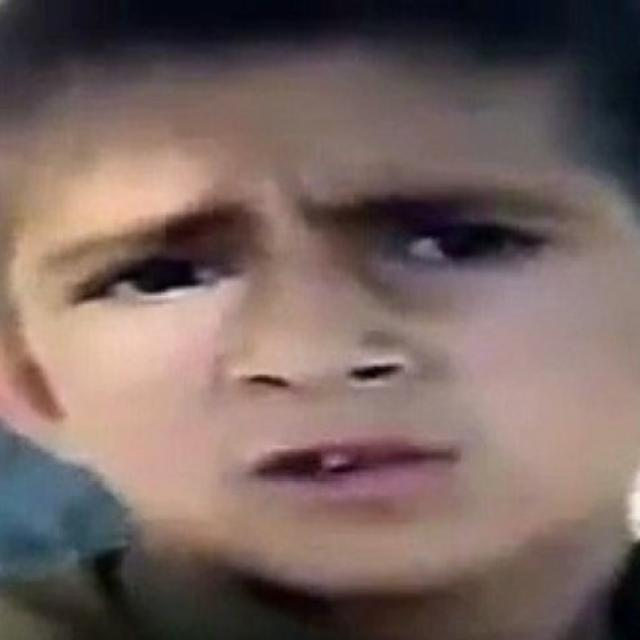Depress: (3, 61, 639, 602)
